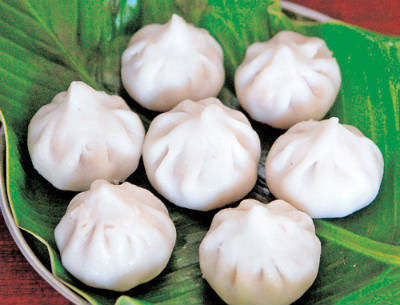modak: (259, 118, 397, 217), (53, 182, 187, 283), (145, 96, 262, 207), (206, 199, 323, 302), (29, 83, 143, 183), (236, 29, 344, 120), (118, 12, 225, 97)
